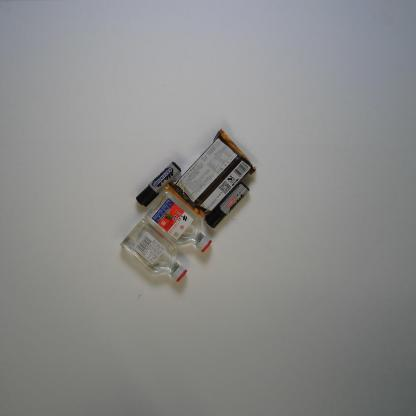Alcohol: (143, 190, 213, 254), (120, 218, 188, 283)
Dessert: (163, 126, 257, 216)
Stationery: (203, 181, 250, 229), (134, 161, 182, 207)
